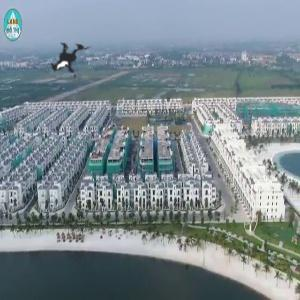drone: (24, 13, 111, 100)
